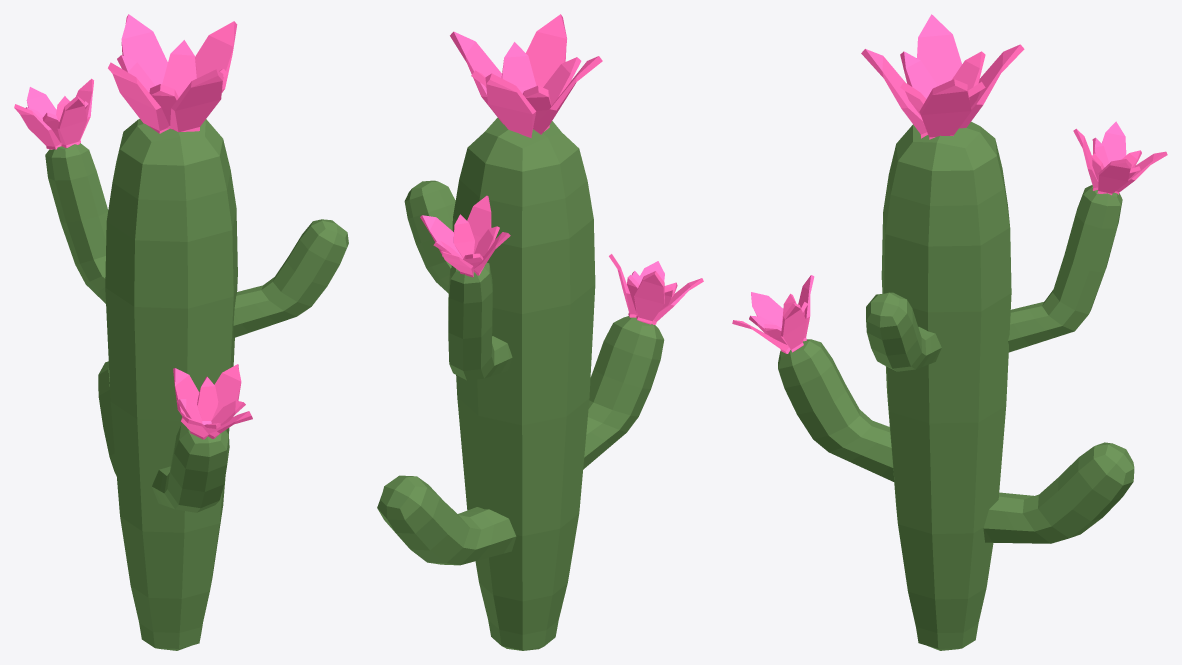
File: CactusFlowers_2.glb
3 views of the same model, side by side, from view 1: azimuth 30°, elevation 25°; view 2: azimuth 150°, elevation 25°; view 3: azimuth 270°, elevation 25° (orthographic).
Visible parts, largest first — view 1: CactusFlowers_2; view 2: CactusFlowers_2; view 3: CactusFlowers_2.
Boxes of the visible parts, bbox=[...] form: CactusFlowers_2: bbox=[14, 14, 348, 650]; CactusFlowers_2: bbox=[377, 14, 703, 650]; CactusFlowers_2: bbox=[732, 14, 1167, 650].
Bounding box in the file's own units: 76.54 × 194 × 128.
